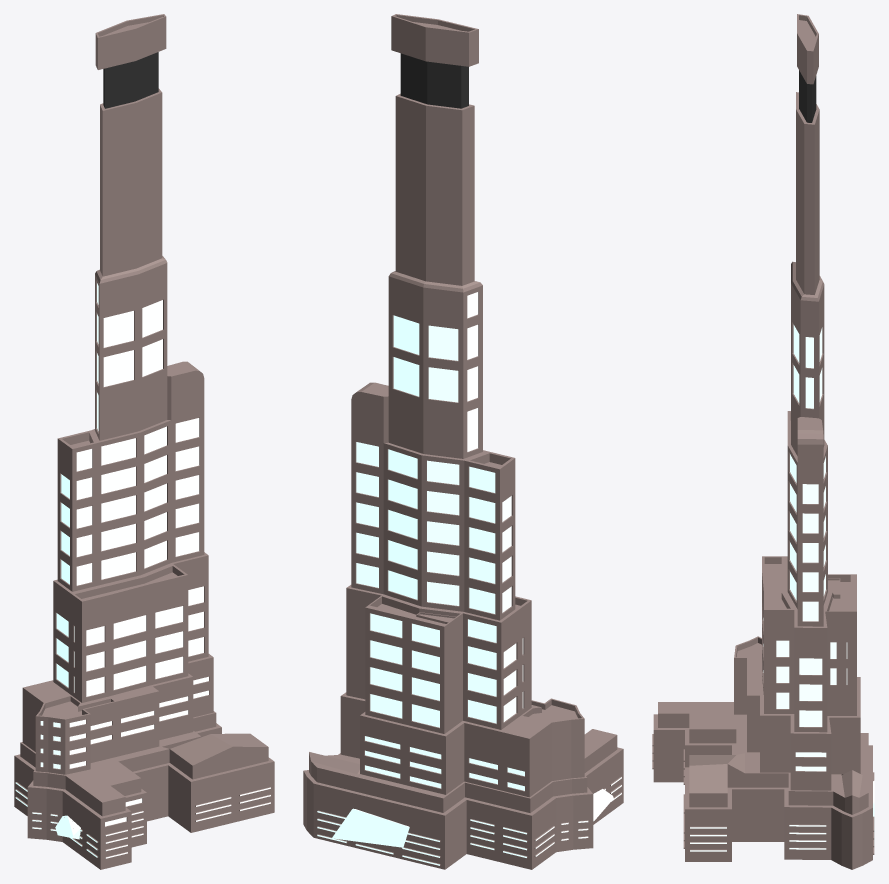
The model's file is BIGBuilding2.fbx.
3 renders of one model, left to right at view 1: azimuth 30°, elevation 25°; view 2: azimuth 150°, elevation 25°; view 3: azimuth 270°, elevation 25°, orthographic. The views are drawn at different scales.
Visible parts, largest first — view 1: BigBuilding2, Building_cell.056, Building_cell.070, Building_cell.035, Building_cell.012, Building_cell.033, Building_cell.061_cell.004, Building_cell.084, Building_cell.045, Building_cell.044, Building_cell.006, Building_cell.061_cell.002 (+15 smaller); view 2: BigBuilding2, Building_cell.012, Building_cell.003, Building_cell.040, Building_cell.053, Building_cell.021, Building_cell.068, Building_cell.084; view 3: BigBuilding2, Building_cell.045, Building_cell.013, Building_cell.061_cell.004, Building_cell.033, Building_cell.035, Building_cell.070, Building_cell.071, Building_cell.061_cell.006, Building_cell.012, Building_cell.037, Building_cell.078_cell.004 (+6 smaller).
Boxes of the visible parts, x1,y1,x2,y2 form: BigBuilding2: (14,15,274,869); Building_cell.056: (62,349,163,496); Building_cell.070: (96,320,204,461); Building_cell.035: (96,14,166,127); Building_cell.012: (53,574,154,657); Building_cell.033: (136,616,209,714); Building_cell.061_cell.004: (102,175,167,279); Building_cell.084: (59,506,140,576); Building_cell.045: (134,551,208,625); Building_cell.044: (39,680,125,756); Building_cell.006: (107,677,176,770); Building_cell.061_cell.002: (96,232,155,323); BigBuilding2: (303,15,623,869); Building_cell.012: (449,594,531,678); Building_cell.003: (332,808,409,847); Building_cell.040: (412,677,532,772); Building_cell.053: (514,717,584,791); Building_cell.021: (468,479,515,569); Building_cell.068: (418,762,515,820); Building_cell.084: (426,539,515,624); BigBuilding2: (652,34,874,869); Building_cell.045: (764,579,856,690); Building_cell.013: (784,754,872,809); Building_cell.061_cell.004: (794,197,821,337); Building_cell.033: (750,663,801,778); Building_cell.035: (796,14,819,117); Building_cell.070: (791,367,827,534); Building_cell.071: (798,681,860,761); Building_cell.061_cell.006: (796,114,817,194); Building_cell.012: (762,556,842,617); Building_cell.037: (732,819,784,841); Building_cell.078_cell.004: (798,573,823,622).
Size of the model in its own units: 5174 by 16610 by 4255.
